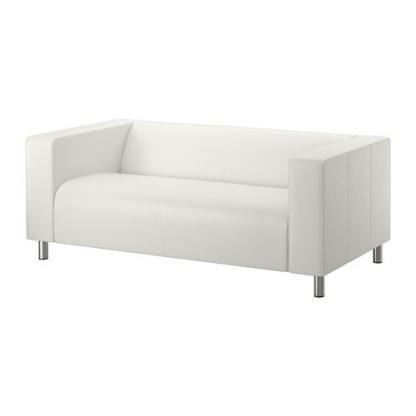Sofa: (20, 114, 395, 302)
